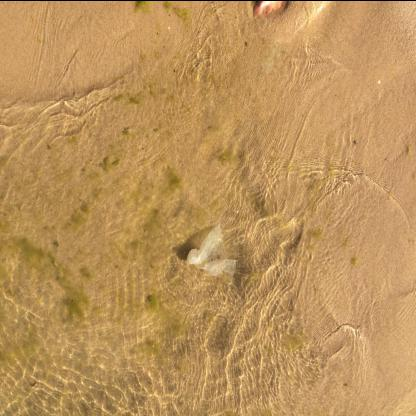plastik: (186, 222, 236, 280)
